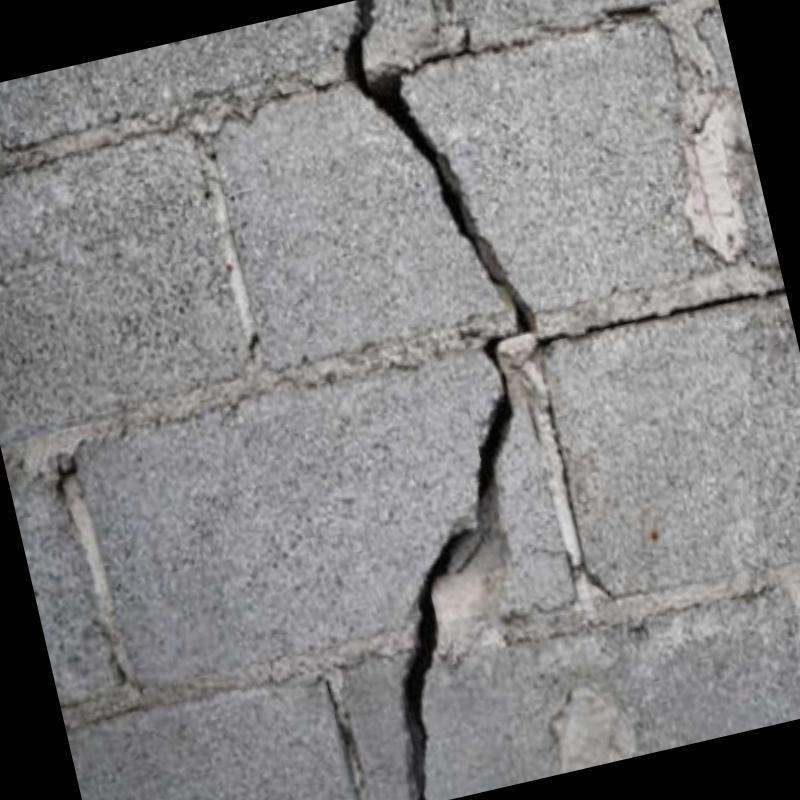crack: (343, 0, 534, 800), (531, 285, 783, 344)
